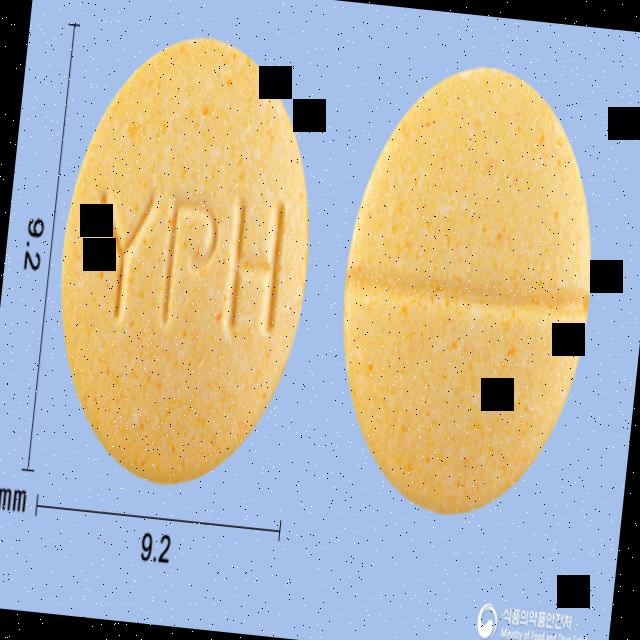Doxycycline Tab- Youngpoong: (39, 19, 331, 498)
